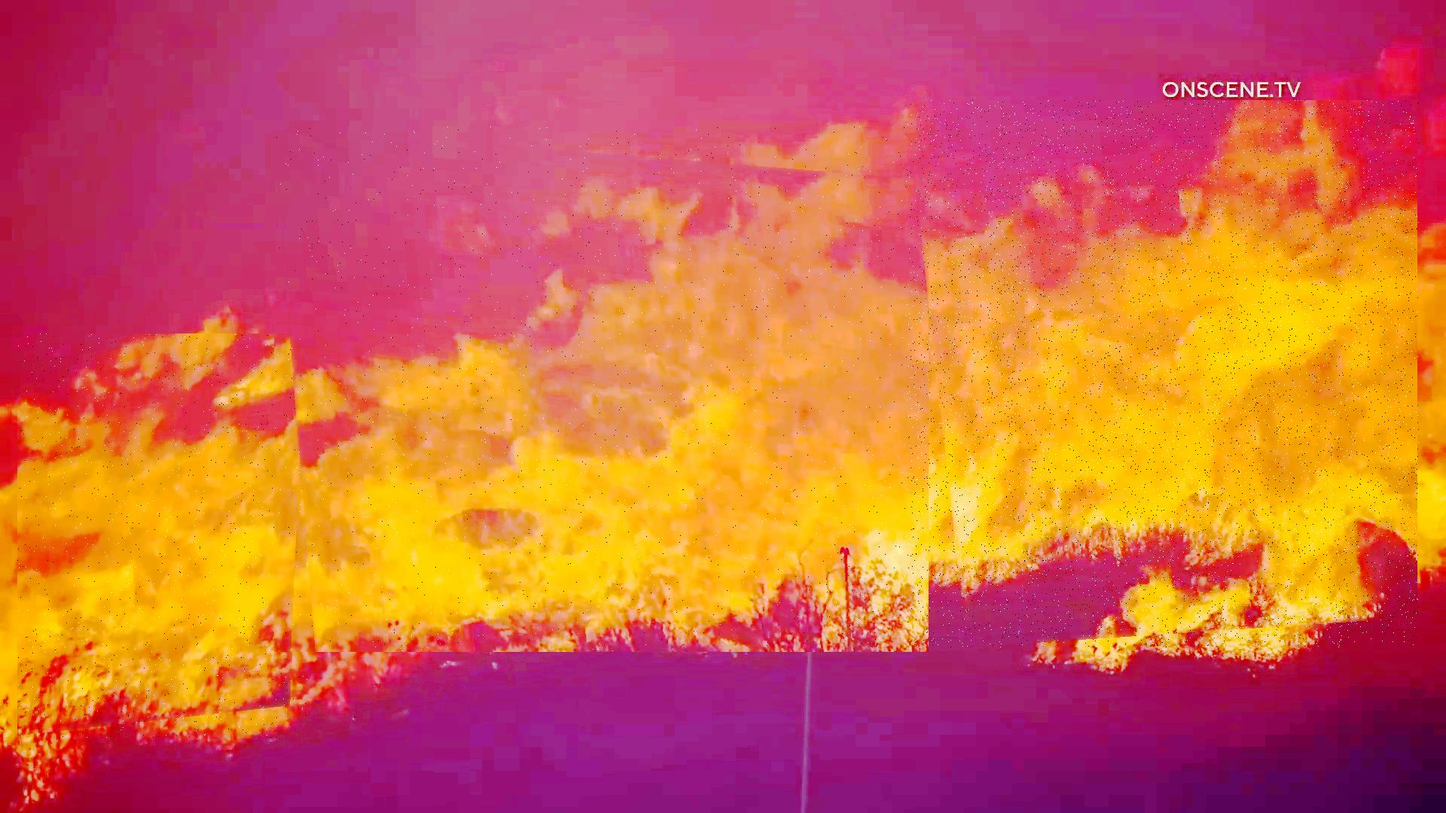fire: (275, 127, 931, 652), (908, 100, 1419, 648), (17, 334, 308, 738)
